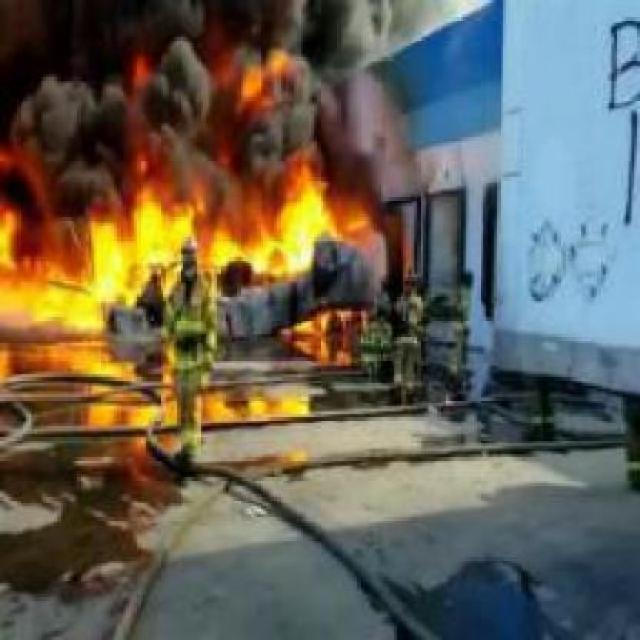Fire: (126, 174, 330, 272), (0, 198, 122, 331)
Smoke: (0, 0, 393, 167)
